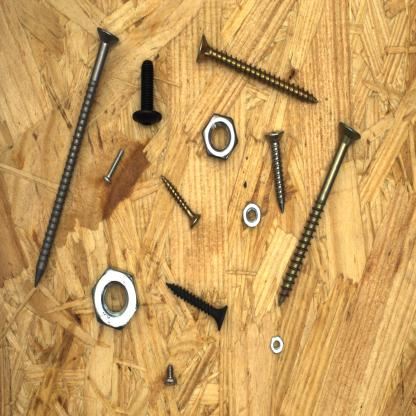screw: (29, 22, 123, 292), (274, 113, 365, 312), (192, 32, 327, 108), (164, 279, 233, 335), (160, 169, 203, 231), (262, 123, 290, 216), (130, 57, 166, 128), (101, 144, 128, 192), (162, 362, 179, 390)
